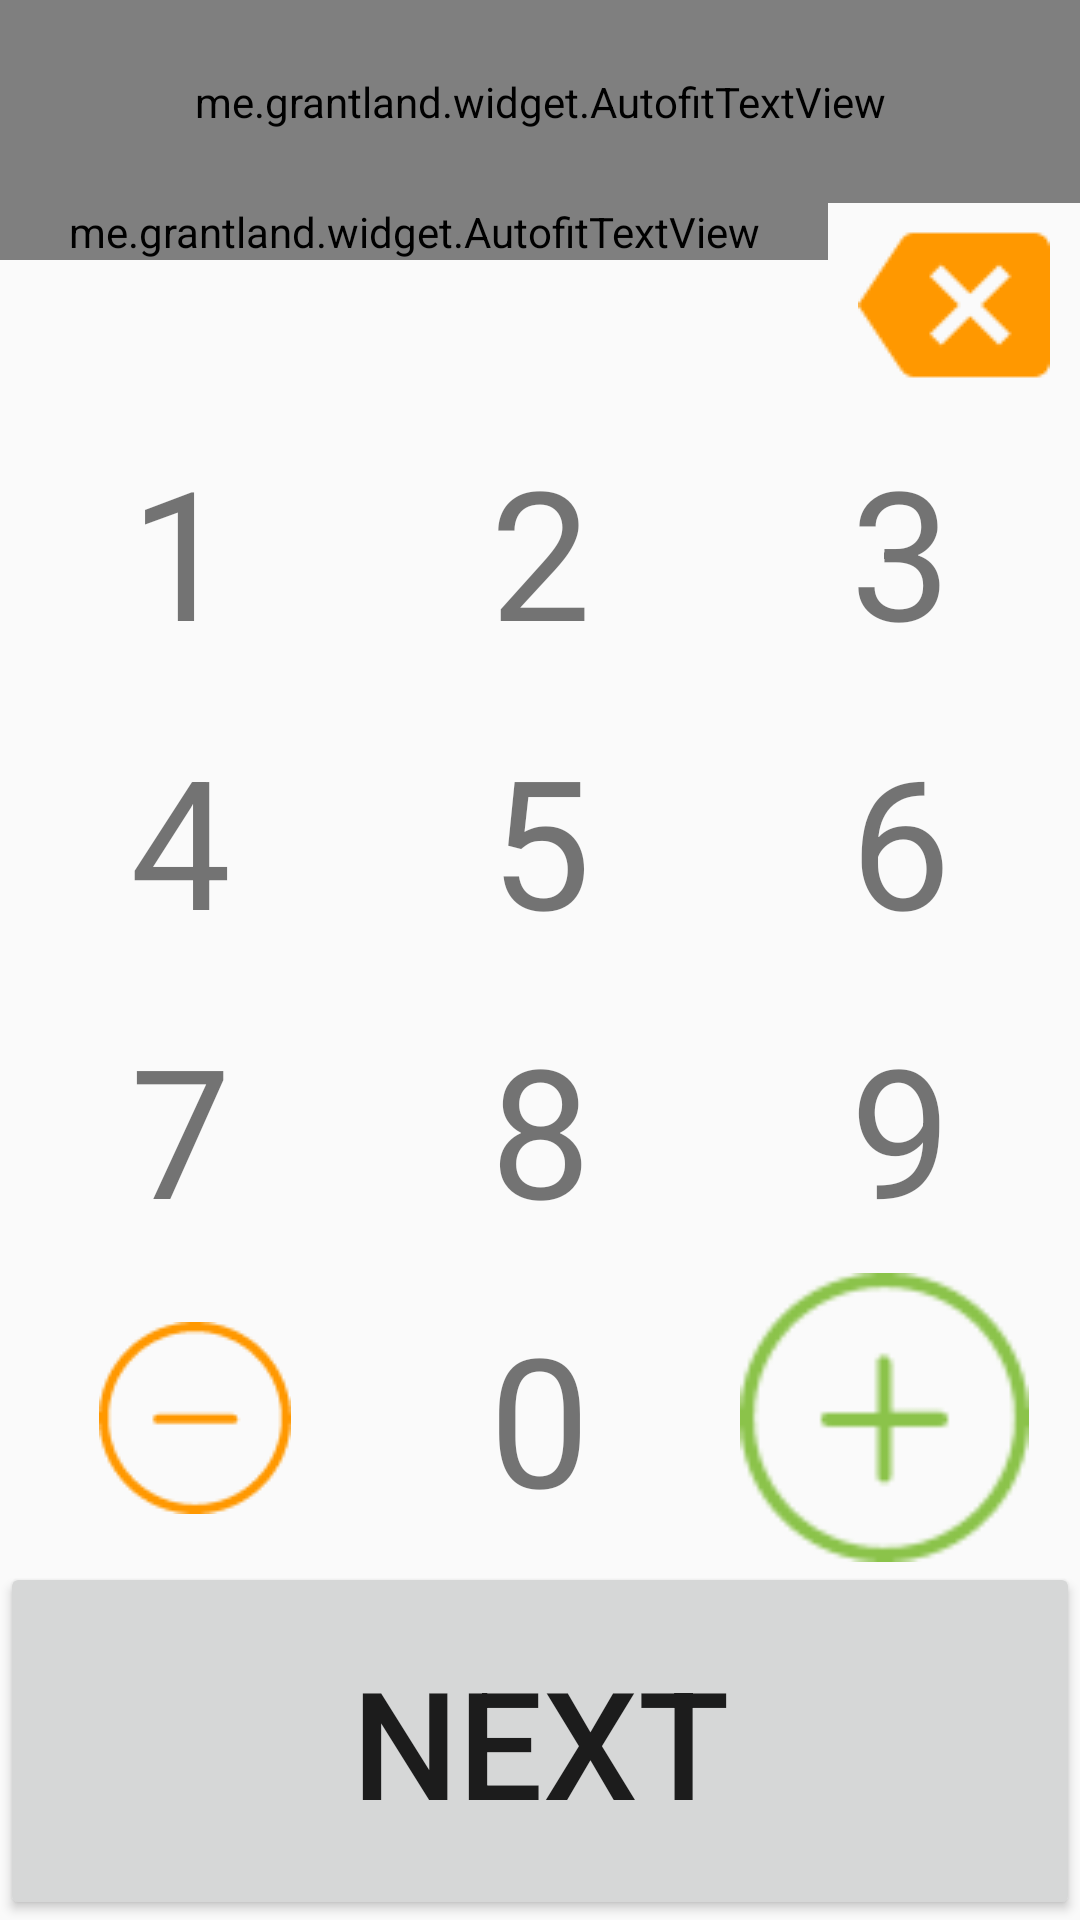

Point at icon controls on the screen. Image size 1080px×1920px, points as point (x, y).
backspace: point (954, 305)
minus: point (195, 1418)
plus: point (884, 1417)
